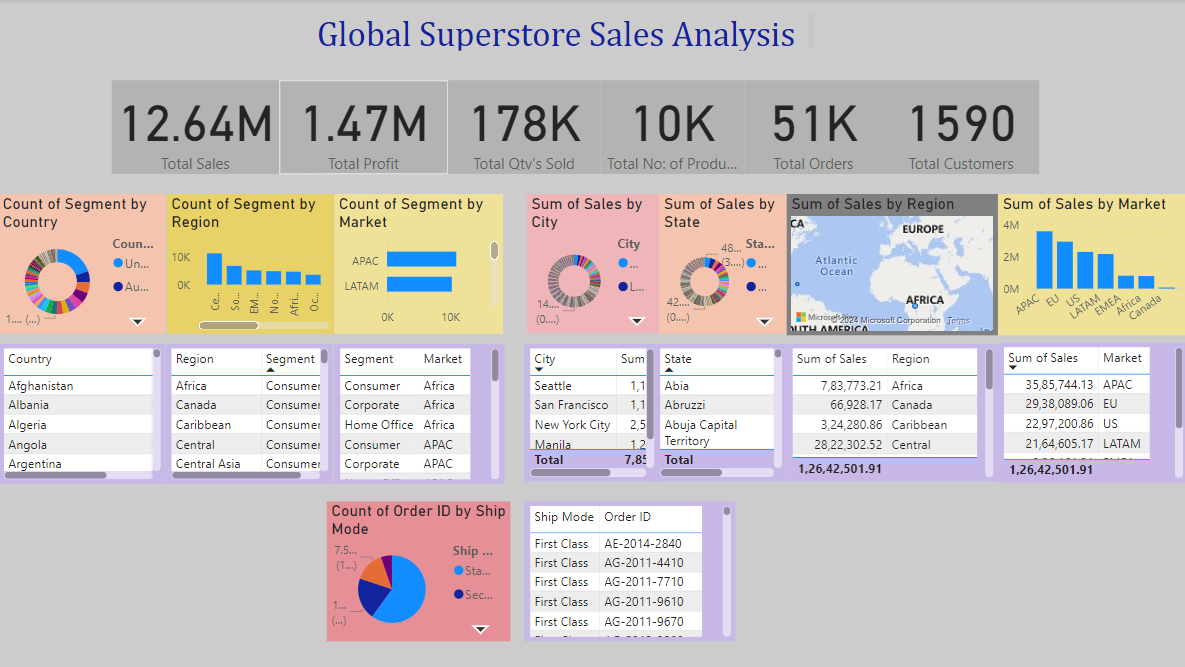

The dashboard page shown, as its layout file describes it:
{"tool":"powerbi","page":{"name":"Page 1","canvas":[1280,720],"ordinal":0},"visuals":[{"type":"card","fields":{"Values":["Orders.Total Sales"]},"box":[122.4,87.4,180.2,100.9],"z":0},{"type":"card","fields":{"Values":["Orders.Total Profit"]},"box":[302.6,87.4,181.6,100.9],"z":1000},{"type":"card","fields":{"Values":["Orders.Total Qty's Sold"]},"box":[484.1,87.4,164.1,100.9],"z":2000},{"type":"card","fields":{"Values":["Orders.Total No: of Products"]},"box":[648.2,87.4,154.7,100.9],"z":3000},{"type":"card","fields":{"Values":["Orders.Total Customers"]},"box":[952.1,87.4,168.1,100.9],"z":4000},{"type":"card","fields":{"Values":["Orders.Total Orders"]},"box":[802.9,87.4,149.3,100.9],"z":5000},{"type":"pieChart","fields":{"Category":["Orders.Ship Mode"],"Y":["CountNonNull(Orders.Order ID)"]},"box":[353.7,540.6,197.7,150.6],"z":6000},{"type":"columnChart","fields":{"Category":["Orders.Market"],"Y":["Sum(Orders.Sales)"]},"box":[1075.9,209.8,204.4,152],"z":7000},{"type":"donutChart","fields":{"Category":["Orders.City"],"Y":["Sum(Orders.Sales)"]},"box":[568.9,209.8,142.6,149.3],"z":8000},{"type":"donutChart","fields":{"Category":["Orders.State"],"Y":["Sum(Orders.Sales)"]},"box":[711.4,209.8,137.2,150.6],"z":9000},{"type":"tableEx","fields":{"Values":["Orders.State","Sum(Orders.Sales)"]},"box":[706,371.2,142.6,147.9],"z":10000},{"type":"map","fields":{"Size":["Sum(Orders.Sales)"],"Category":["Orders.Region"]},"box":[848.6,209.8,227.3,152],"z":11000},{"type":"tableEx","fields":{"Values":["Orders.City","Sum(Orders.Sales)"]},"box":[566.2,371.2,145.2,147.9],"z":12000},{"type":"tableEx","fields":{"Values":["Sum(Orders.Sales)","Orders.Market"]},"box":[1075.9,369.8,204.4,150.6],"z":13000},{"type":"tableEx","fields":{"Values":["Orders.Ship Mode","Orders.Order ID"]},"box":[566.2,540.6,227.3,150.6],"z":14000},{"type":"donutChart","fields":{"Category":["Orders.Country"],"Y":["CountNonNull(Orders.Segment)"]},"box":[0,209.8,180.2,150.6],"z":15000},{"type":"textbox","box":[247.4,10.8,636.1,49.8],"z":16000},{"type":"barChart","fields":{"Category":["Orders.Market"],"Y":["CountNonNull(Orders.Segment)"]},"box":[361.8,209.8,181.6,150.6],"z":17000},{"type":"clusteredColumnChart","fields":{"Category":["Orders.Region"],"Y":["CountNonNull(Orders.Segment)"]},"box":[181.6,209.8,180.2,150.6],"z":18000},{"type":"tableEx","fields":{"Values":["Orders.Country","Orders.Segment"]},"box":[0,371.2,180.2,150.6],"z":19000},{"type":"tableEx","fields":{"Values":["Orders.Region","Orders.Segment"]},"box":[180.2,371.2,180.2,150.6],"z":20000},{"type":"tableEx","fields":{"Values":["Orders.Segment","Orders.Market"]},"box":[361.8,371.2,182.9,150.6],"z":21000},{"type":"tableEx","fields":{"Values":["Sum(Orders.Sales)","Orders.Region"]},"box":[848.6,371.2,227.3,147.9],"z":22000}]}

Visuals, with their boxes in screenshot pixels (x1, y1, x2, y2), scaled from the page's 1280x720 canvas onto the 1185x667 screenshot:
card - Orders.Total Sales: (113,81,280,174)
card - Orders.Total Profit: (280,81,448,174)
card - Orders.Total Qty's Sold: (448,81,600,174)
card - Orders.Total No: of Products: (600,81,743,174)
card - Orders.Total Customers: (881,81,1037,174)
card - Orders.Total Orders: (743,81,882,174)
pieChart - Orders.Ship Mode x CountNonNull(Orders.Order ID): (327,501,510,640)
columnChart - Orders.Market x Sum(Orders.Sales): (996,194,1184,335)
donutChart - Orders.City x Sum(Orders.Sales): (527,194,659,333)
donutChart - Orders.State x Sum(Orders.Sales): (659,194,786,334)
tableEx - Orders.State x Sum(Orders.Sales): (654,344,786,481)
map - Sum(Orders.Sales) x Orders.Region: (786,194,996,335)
tableEx - Orders.City x Sum(Orders.Sales): (524,344,659,481)
tableEx - Sum(Orders.Sales) x Orders.Market: (996,343,1184,482)
tableEx - Orders.Ship Mode x Orders.Order ID: (524,501,735,640)
donutChart - Orders.Country x CountNonNull(Orders.Segment): (0,194,167,334)
textbox: (229,10,818,56)
barChart - Orders.Market x CountNonNull(Orders.Segment): (335,194,503,334)
clusteredColumnChart - Orders.Region x CountNonNull(Orders.Segment): (168,194,335,334)
tableEx - Orders.Country x Orders.Segment: (0,344,167,483)
tableEx - Orders.Region x Orders.Segment: (167,344,334,483)
tableEx - Orders.Segment x Orders.Market: (335,344,504,483)
tableEx - Sum(Orders.Sales) x Orders.Region: (786,344,996,481)
